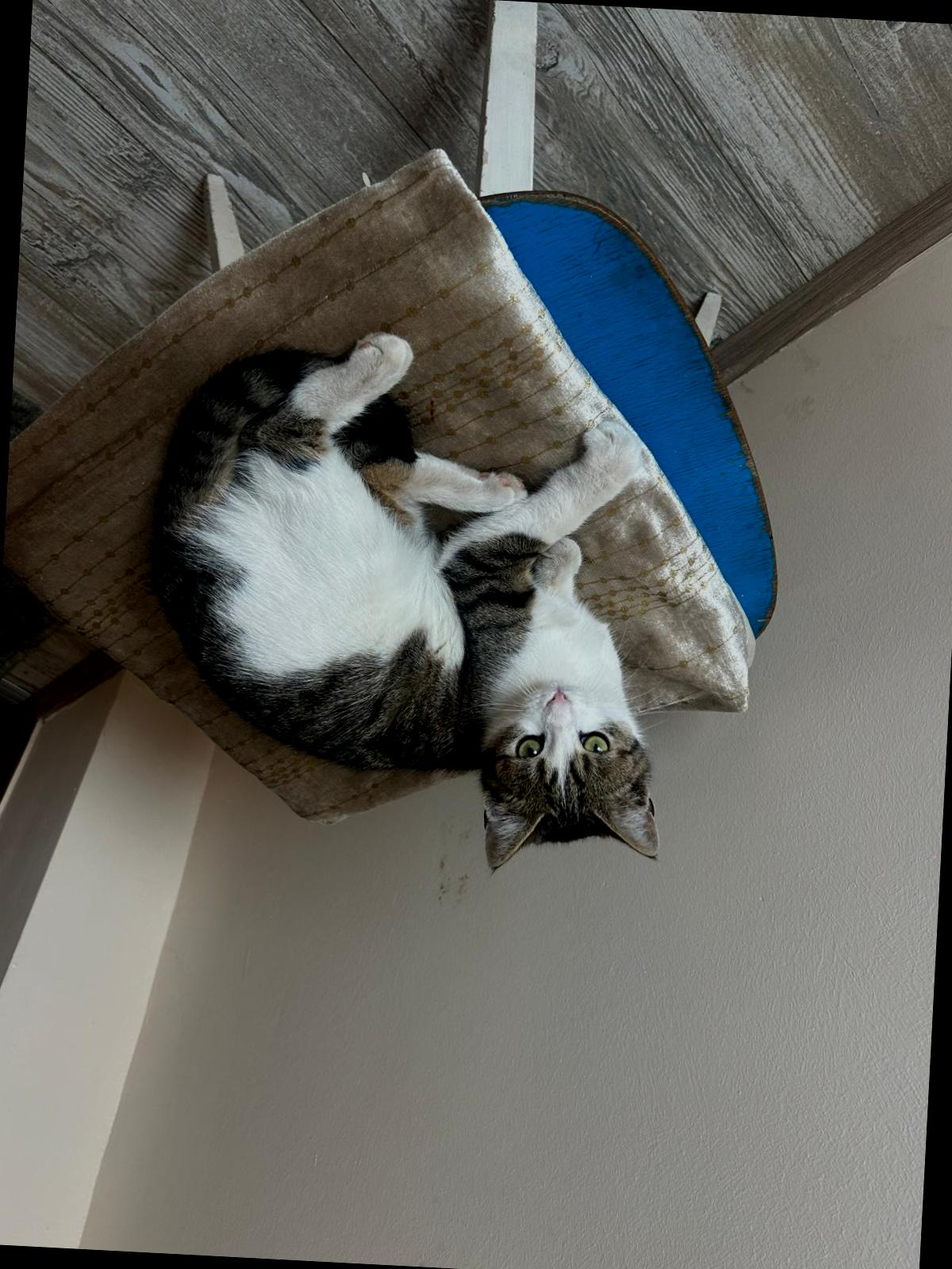macka: (135, 321, 687, 884)
